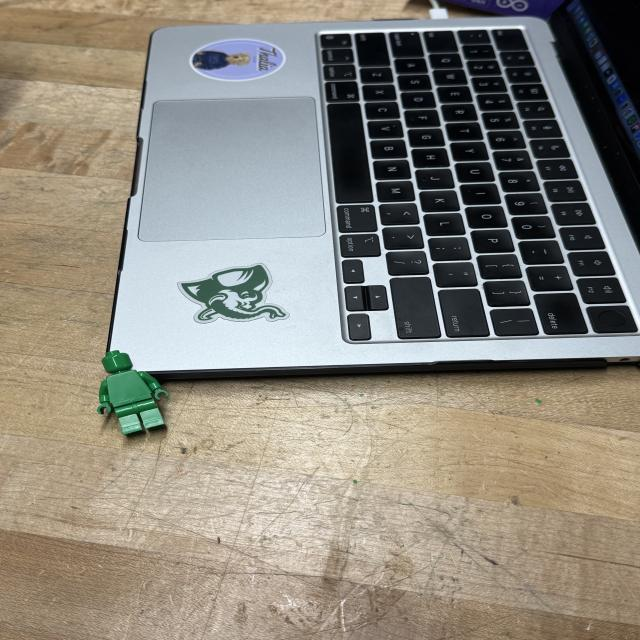Green Mini Figure: (97, 350, 168, 435)
